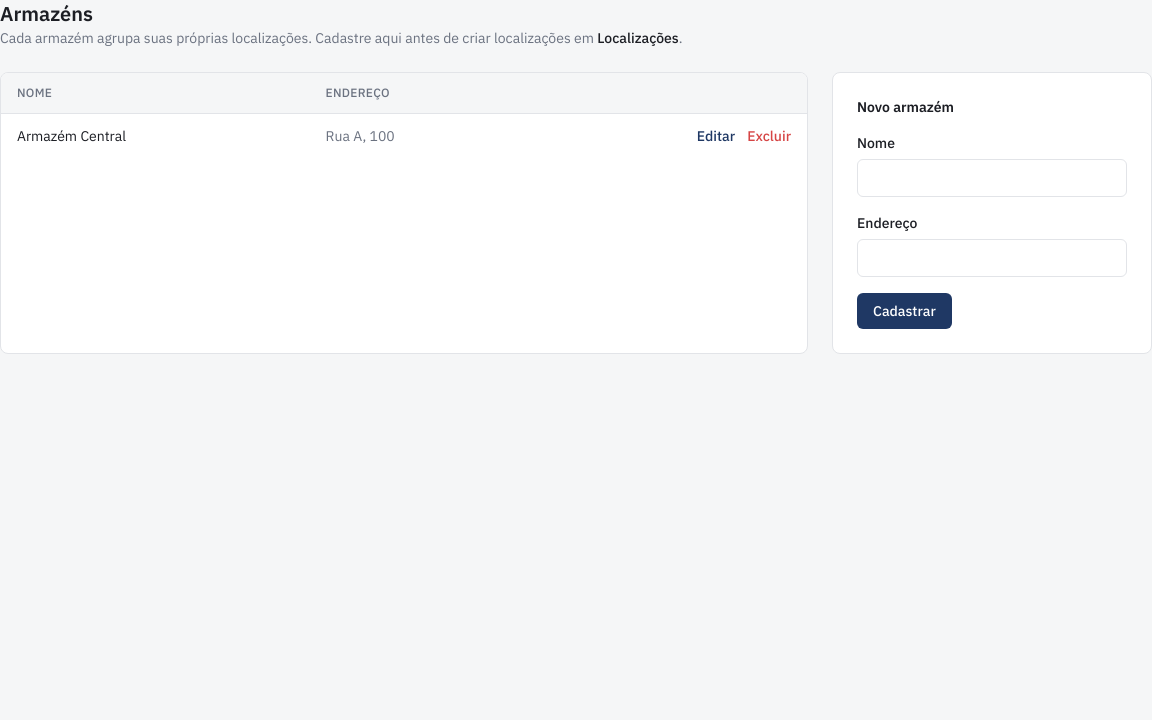
ArmazensPage › pede confirmação num diálogo in-app antes de excluir (não window.confirm)
Click the button "Excluir" at (769, 136), box [747, 126, 791, 146]
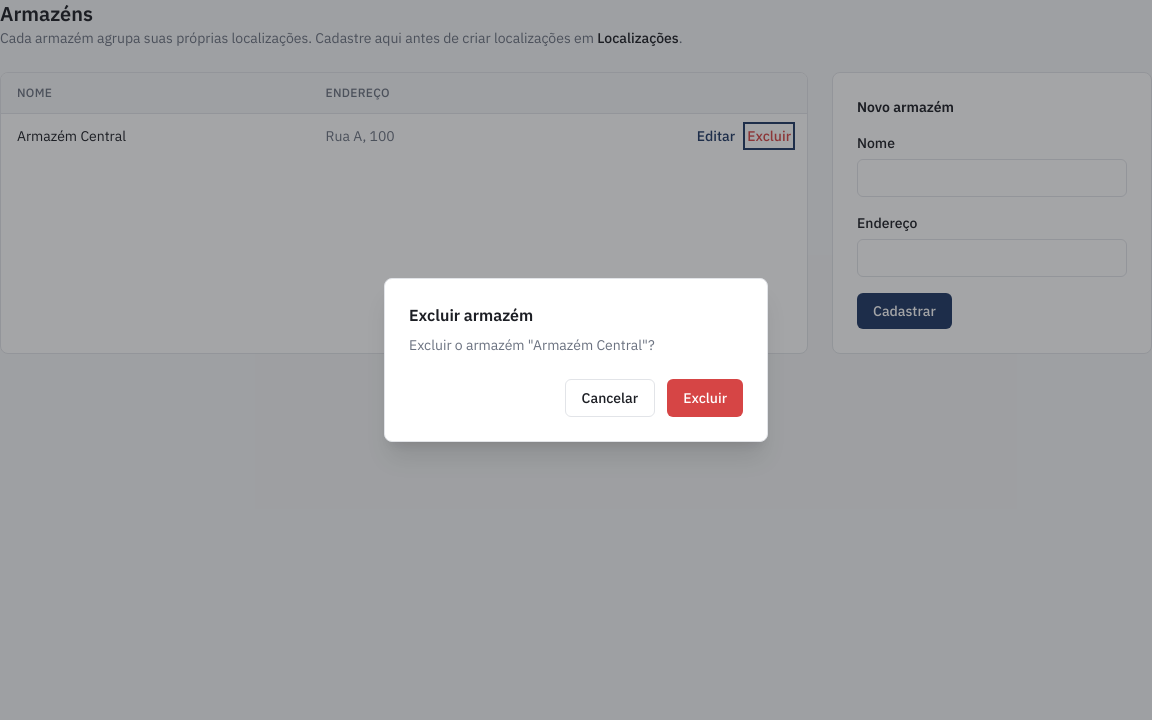
Now the text "Excluir o armazém \"Armazém Central\"?" is shown, box [409, 336, 655, 354]
Click the button "Cancelar" at (610, 398), box [565, 379, 655, 417]
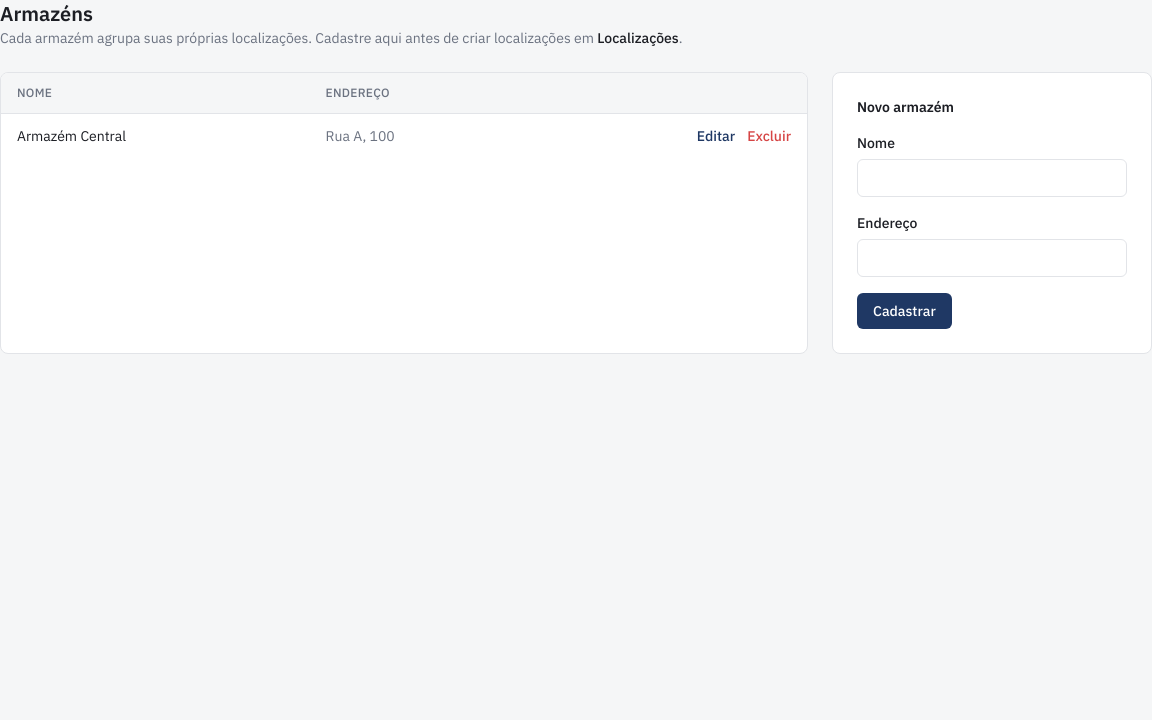
Now the dialog is gone
